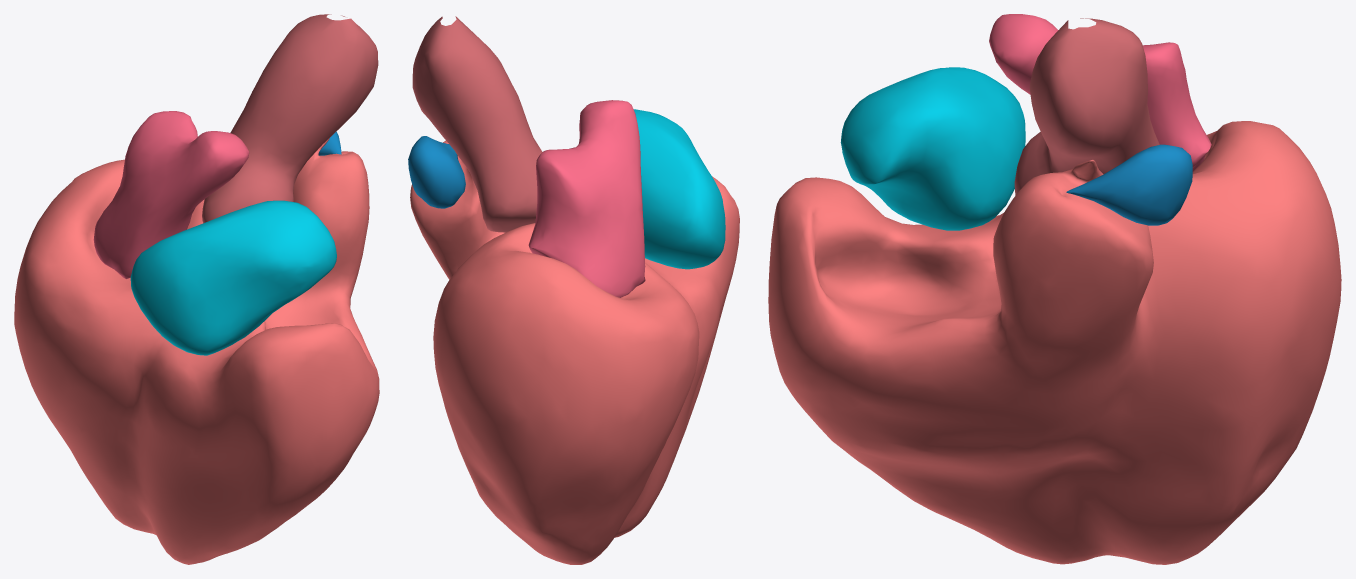
The model's file is frame_67.glb.
3 views of the same model, side by side, from view 1: azimuth 30°, elevation 25°; view 2: azimuth 150°, elevation 25°; view 3: azimuth 270°, elevation 25° (orthographic). The views are drawn at different scales.
Parts seen in each view (by area): view 1: Renderer Node; view 2: Renderer Node; view 3: Renderer Node.
Part boxes in pixels (x1,y1,x2,y2): Renderer Node: (14,14,379,564); Renderer Node: (408,16,739,564); Renderer Node: (768,14,1341,564).
Size of the model in its own units: 101 by 159 by 129.
